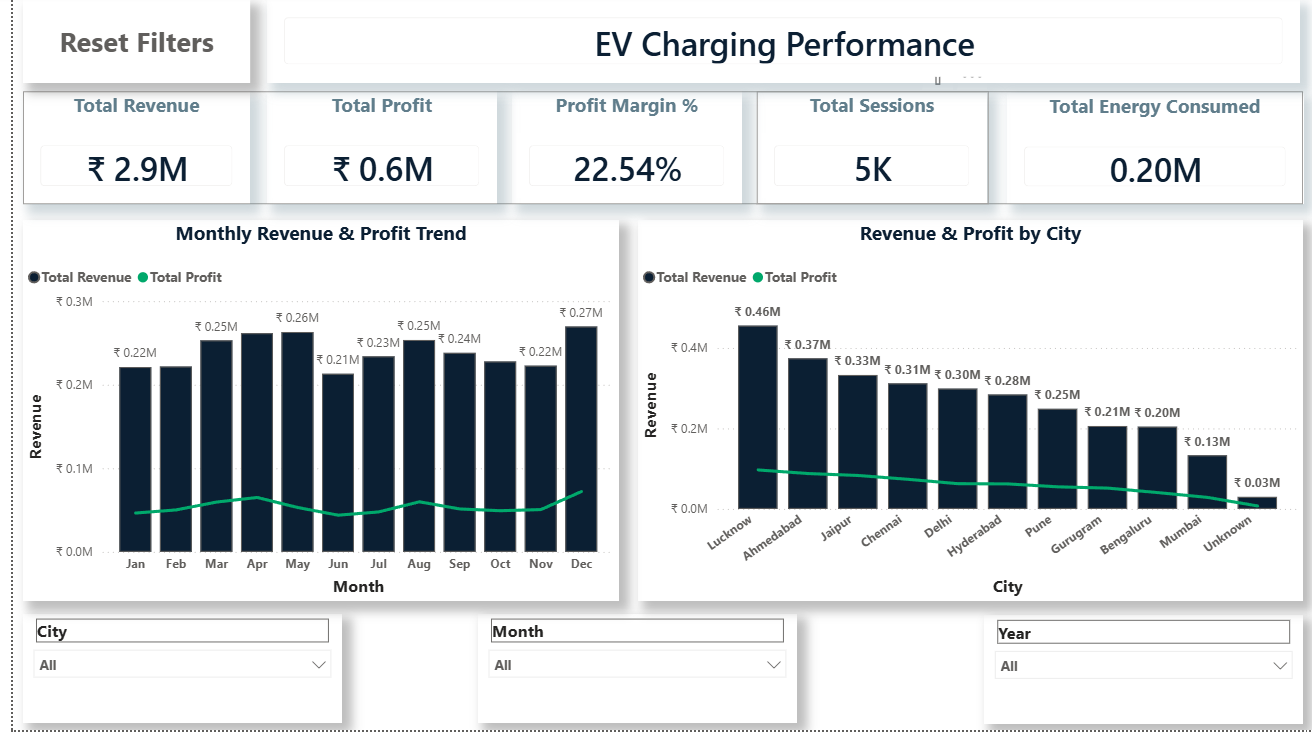

The page's visual inventory and layout, read from the dashboard file:
{"tool":"powerbi","page":{"name":"EXECUTIVE OVERVIEW","canvas":[1280,720],"ordinal":0},"visuals":[{"type":"group","id":"g1","title":"Group 1","box":[9.8,94.2,1252.2,110.1],"z":0},{"type":"cardVisual","title":"Total Revenue","fields":{"Data":["Measure.Total Revenue"]},"box":[9.8,94.2,222.3,110.1],"z":0,"group":"g1"},{"type":"cardVisual","title":"Total Profit","fields":{"Data":["Measure.Total Profit"]},"box":[248.7,94.2,225.3,110.1],"z":1000,"group":"g1"},{"type":"lineStackedColumnComboChart","title":"Monthly Revenue & Profit Trend","fields":{"Category":["DimDate.Year Hierarchy.Year","DimDate.Year Hierarchy.Month"],"Y":["Measure.Total Revenue"],"Y2":["Measure.Total Profit"]},"box":[9.8,220.1,583.3,373],"z":1000},{"type":"cardVisual","title":"Profit Margin %","fields":{"Data":["Measure.Profit Margin %"]},"box":[487.7,94.2,225.3,110.1],"z":2000,"group":"g1"},{"type":"lineClusteredColumnComboChart","title":"Revenue & Profit by City","fields":{"Y":["Measure.Total Revenue"],"Category":["DimStation.City"],"Y2":["Measure.Total Profit"]},"box":[611.4,220.1,650.5,373],"z":2000},{"type":"cardVisual","title":"Total Sessions","fields":{"Data":["Measure.Total Sessions"]},"box":[728.1,94.2,225.3,110.1],"z":3000,"group":"g1"},{"type":"slicer","fields":{"Values":["DimStation.City"]},"box":[9.8,605.3,311.8,106.4],"z":3000},{"type":"cardVisual","title":"Total Energy Consumed","fields":{"Data":["Measure.Dynamic Title"]},"box":[248.2,4.9,1011.3,80.7],"z":4000,"group":"g2"},{"type":"cardVisual","title":"Total Energy Consumed","fields":{"Data":["Measure.Total Energy Consumed"]},"box":[971.6,95.4,290.4,108.8],"z":4000,"group":"g1"},{"type":"slicer","fields":{"Values":["DimDate.Month"]},"box":[454.9,605.3,311.8,106.4],"z":4000},{"type":"slicer","fields":{"Values":["DimDate.Year"]},"box":[950.1,606.5,311.8,106.4],"z":5000},{"type":"group","id":"g2","title":"Group 1","box":[248.2,4.9,1011.3,80.7],"z":6000},{"type":"actionButton","box":[9.8,4.9,222.6,80.7],"z":7000}]}

Visuals, with their boxes in screenshot pixels (x1, y1, x2, y2), scaled from the page's 1280x720 canvas onto the 1312x732 screenshot:
"Group 1" group: bbox=(10, 96, 1294, 208)
"Total Revenue" cardVisual: bbox=(10, 96, 238, 208)
"Total Profit" cardVisual: bbox=(255, 96, 486, 208)
"Monthly Revenue & Profit Trend" lineStackedColumnComboChart: bbox=(10, 224, 608, 603)
"Profit Margin %" cardVisual: bbox=(500, 96, 731, 208)
"Revenue & Profit by City" lineClusteredColumnComboChart: bbox=(627, 224, 1293, 603)
"Total Sessions" cardVisual: bbox=(746, 96, 977, 208)
slicer - DimStation.City: bbox=(10, 615, 330, 724)
"Total Energy Consumed" cardVisual: bbox=(254, 5, 1291, 87)
"Total Energy Consumed" cardVisual: bbox=(996, 97, 1294, 208)
slicer - DimDate.Month: bbox=(466, 615, 786, 724)
slicer - DimDate.Year: bbox=(974, 617, 1293, 725)
"Group 1" group: bbox=(254, 5, 1291, 87)
actionButton: bbox=(10, 5, 238, 87)
